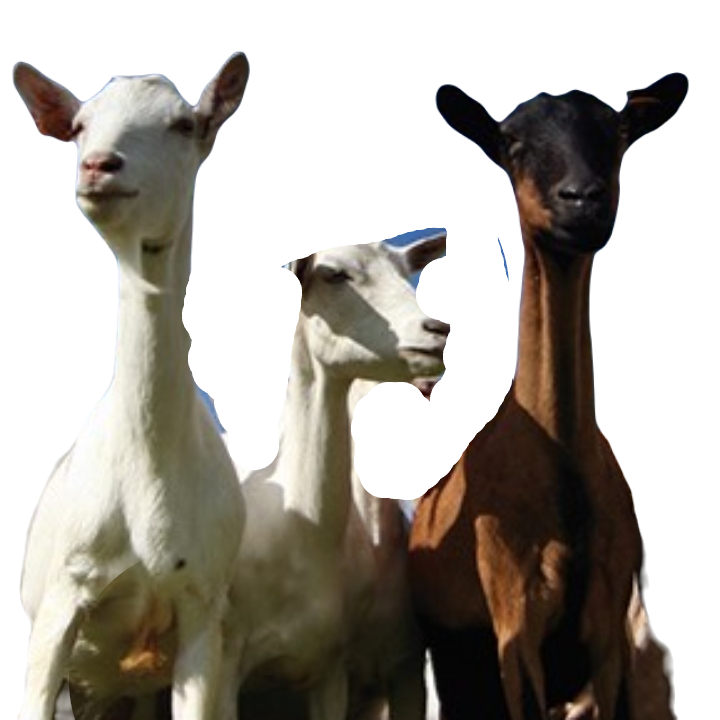Goat: (427, 66, 689, 719), (6, 53, 249, 719)
